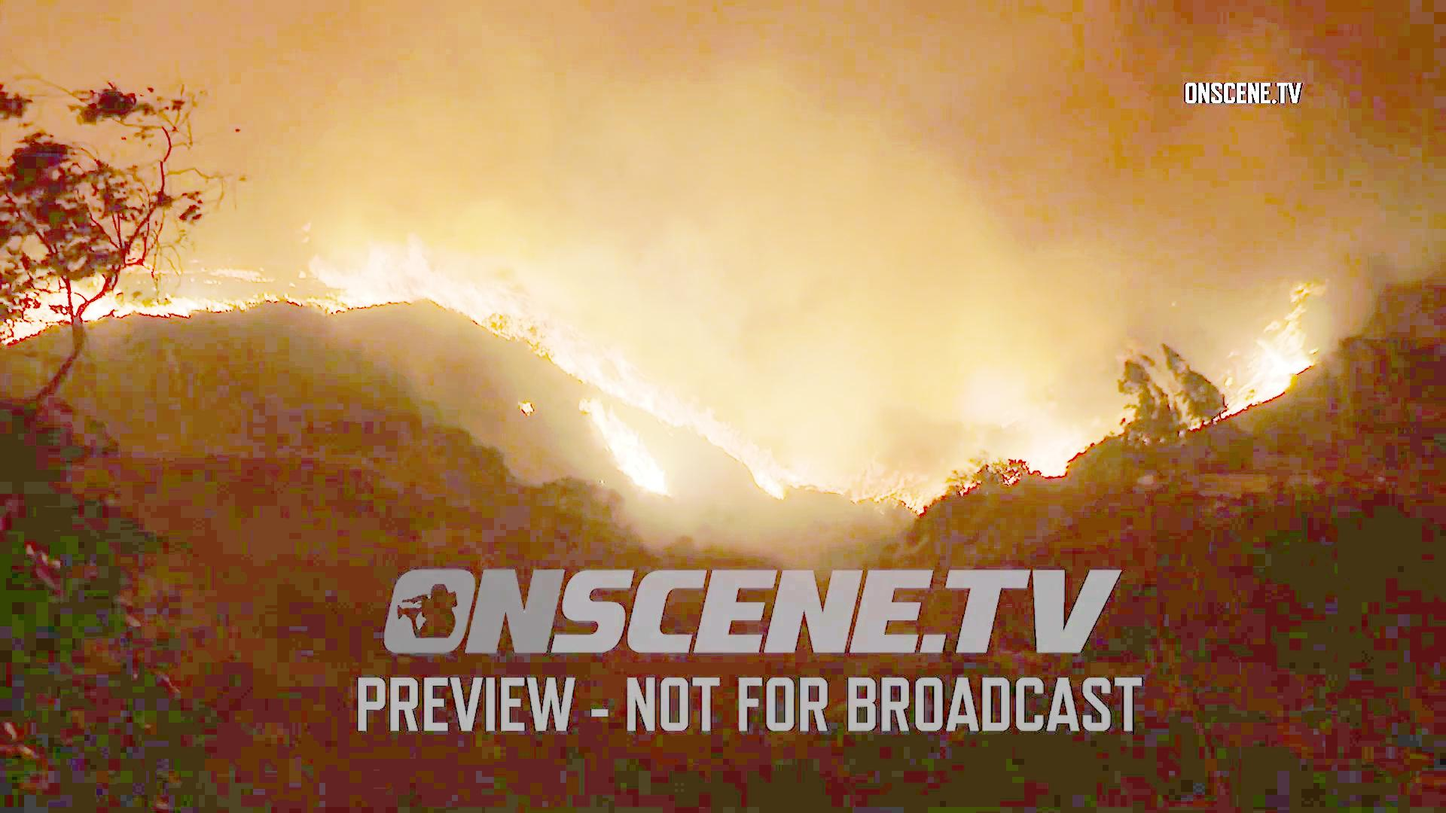fire: (311, 224, 539, 336), (545, 302, 674, 493), (1225, 281, 1330, 413), (806, 446, 954, 509)
